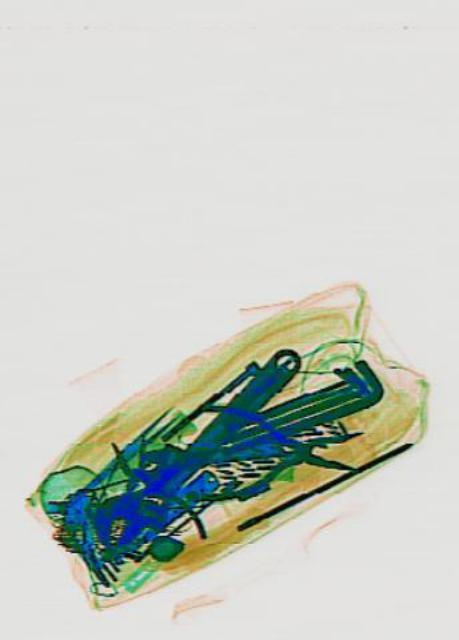Pliers: (184, 402, 361, 504)
Wrench: (82, 320, 309, 568)
